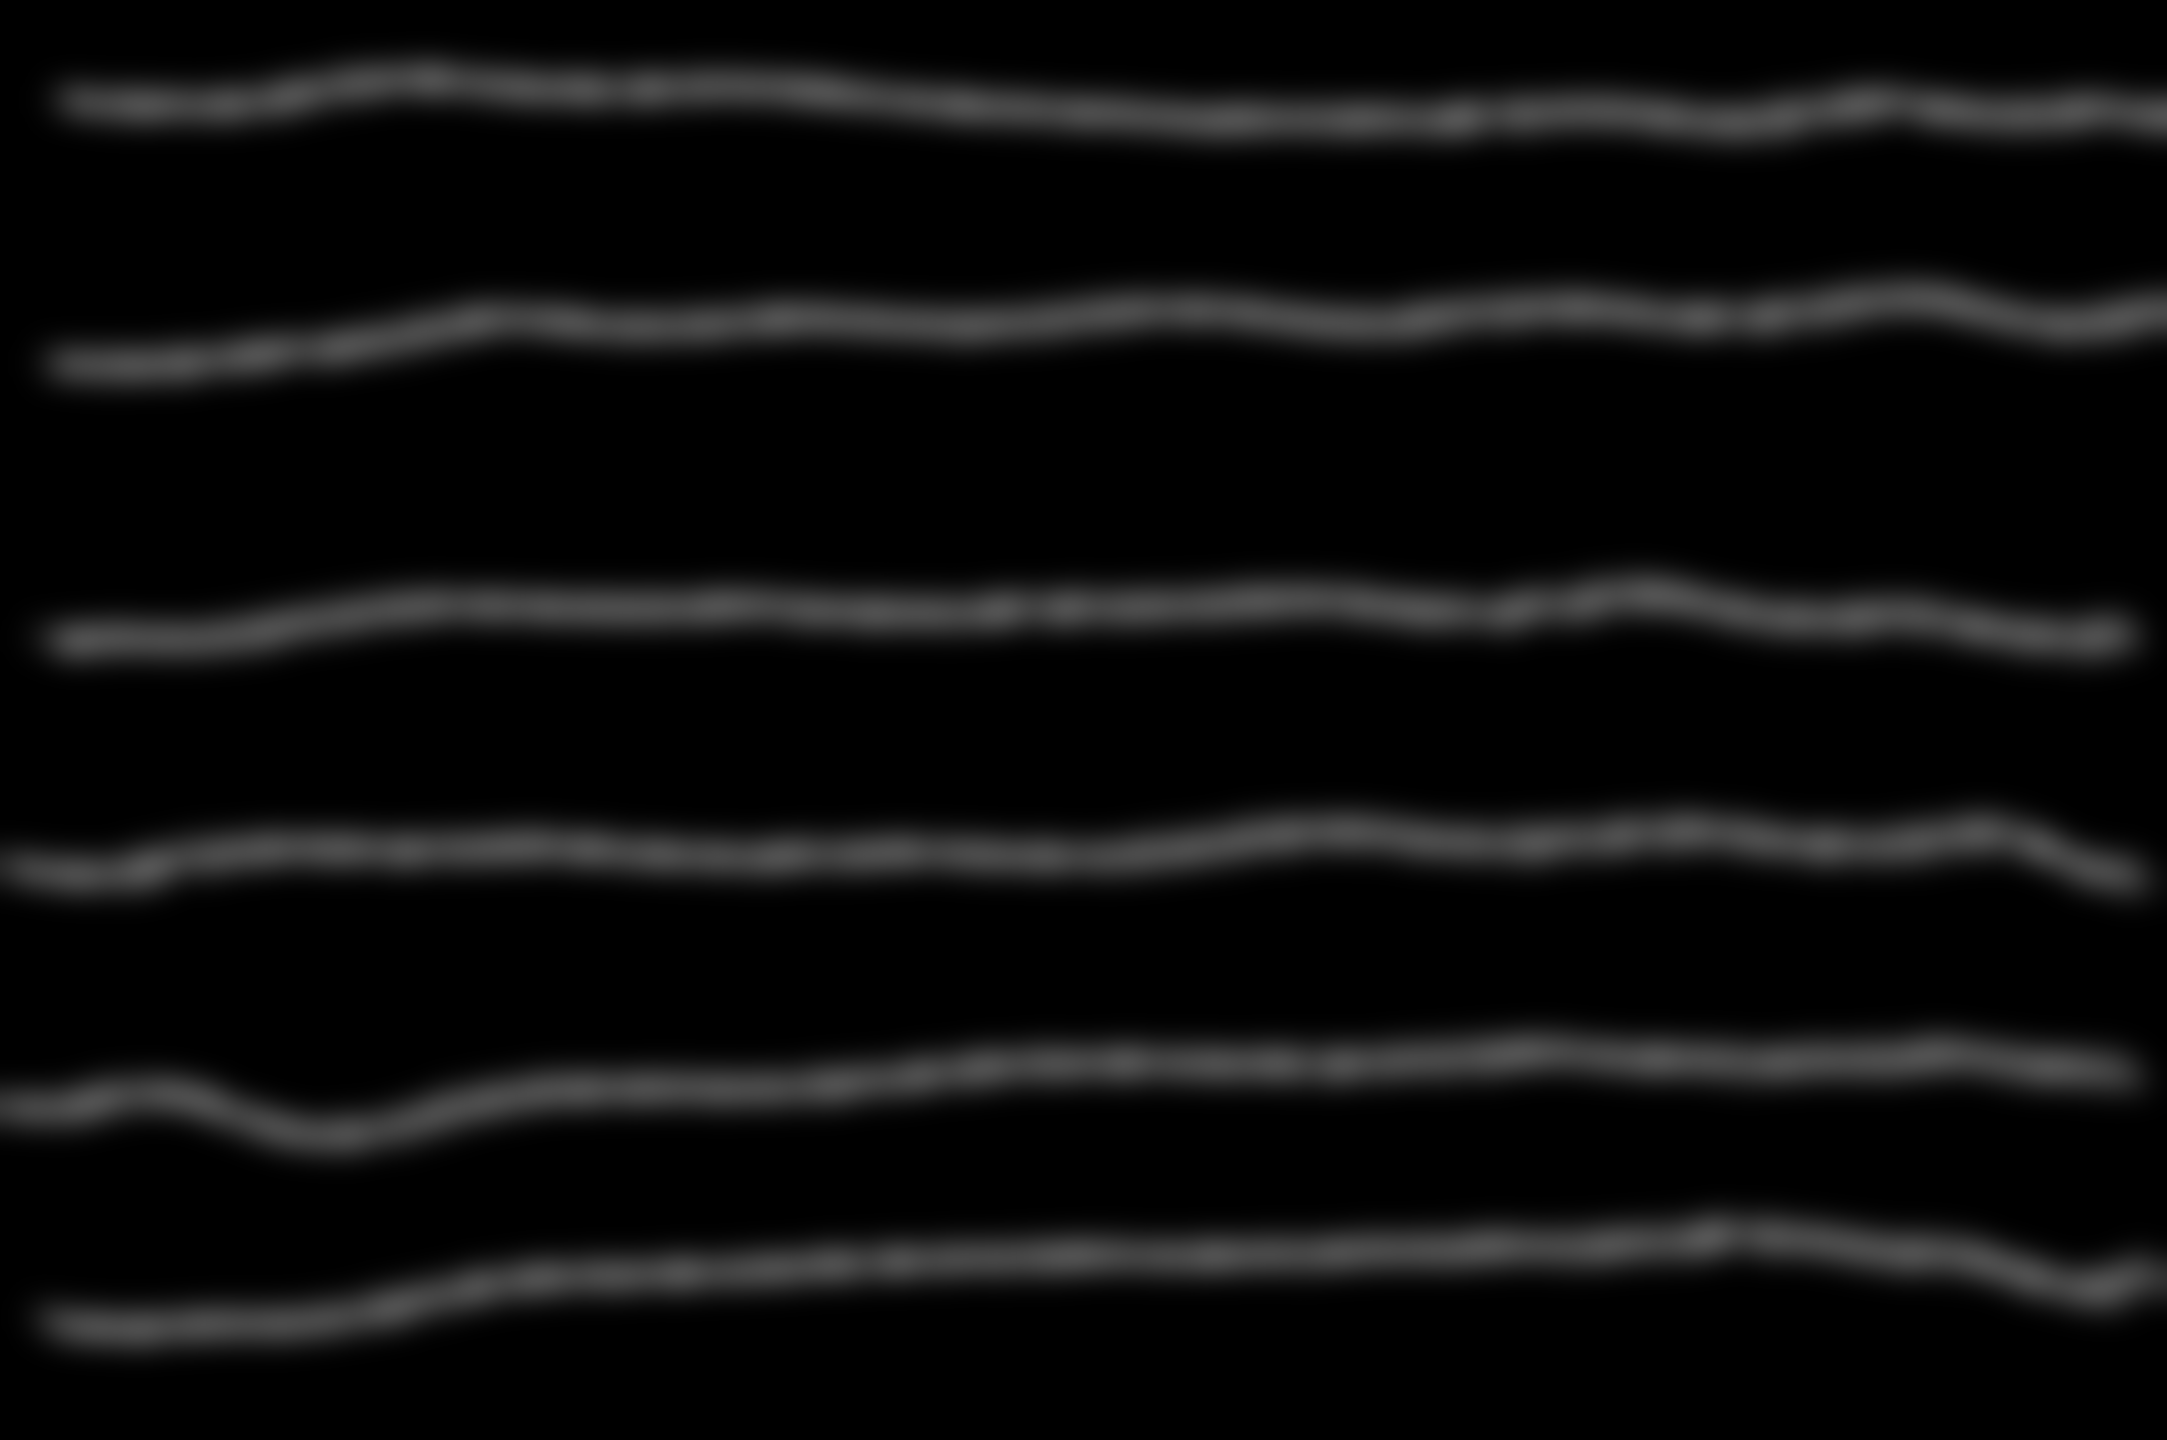Laminar flow: (34, 48, 2167, 1364)
